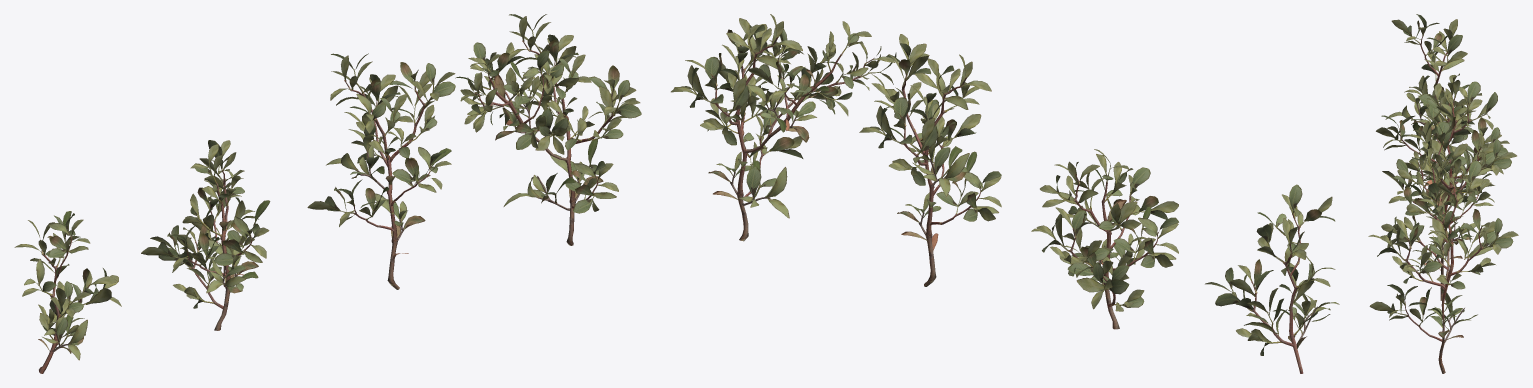
File: shrub_04.glb
The picture shows the model from 3 angles, left to right: view 1: azimuth 30°, elevation 25°; view 2: azimuth 150°, elevation 25°; view 3: azimuth 270°, elevation 25°; orthographic projection. The views are drawn at different scales.
Parts seen in each view (by area): view 1: shrub_04; view 2: shrub_04; view 3: shrub_04.
Part boxes in pixels (left/top/right/bottom): shrub_04: left=14, top=14, right=641, bottom=373; shrub_04: left=671, top=14, right=1339, bottom=373; shrub_04: left=1368, top=14, right=1518, bottom=373.
Bounding box in the file's own units: 0.5837 × 0.2192 × 0.1461.
Materials: 1 (1 with a texture image).
